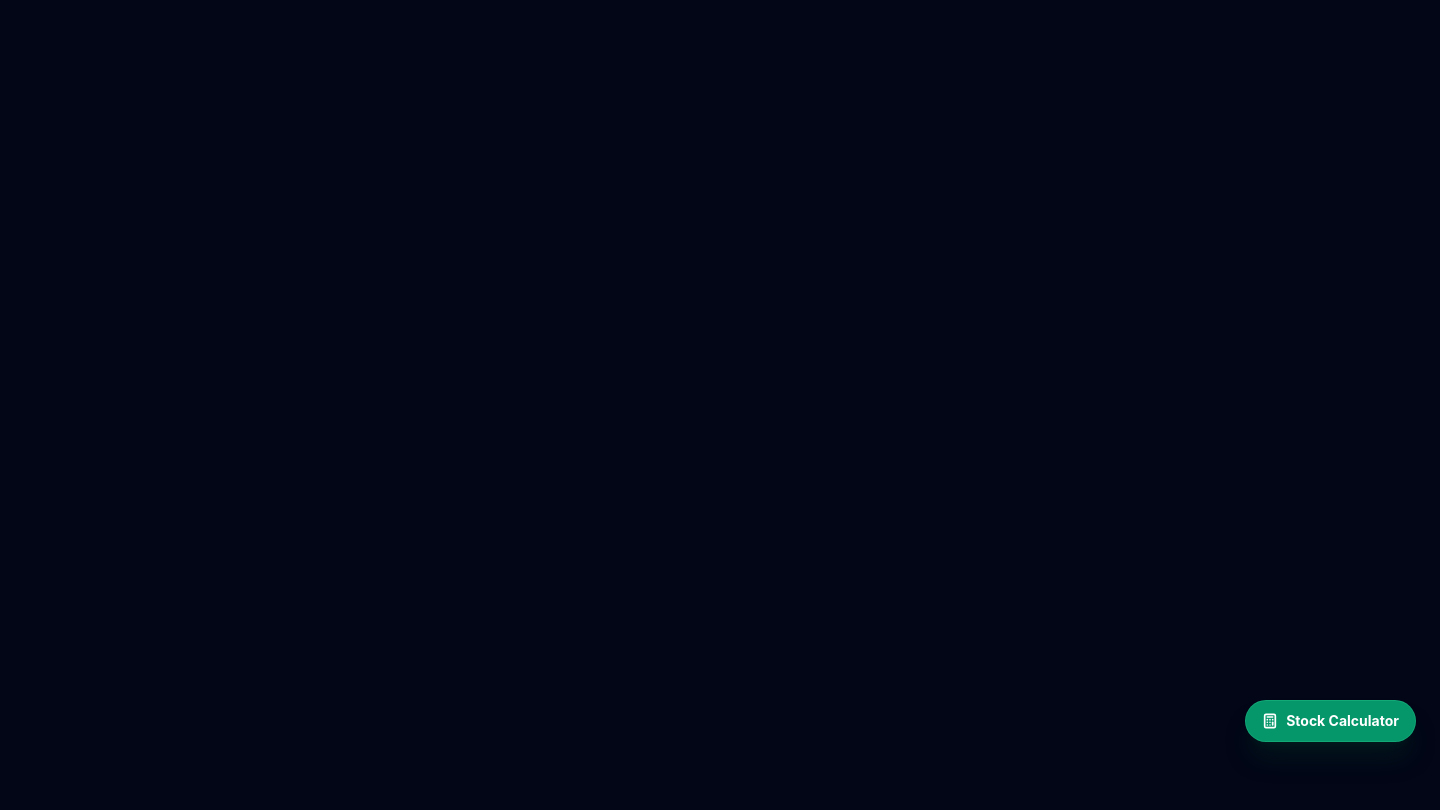
Test: FloatingPageCalculator › opens modal dialog on desktop when clicked with clean text header
Click the button with aria-label "Open Stocks & Dividend Calculator" at (1331, 721), box top-left (1245, 700), bottom-right (1416, 742)
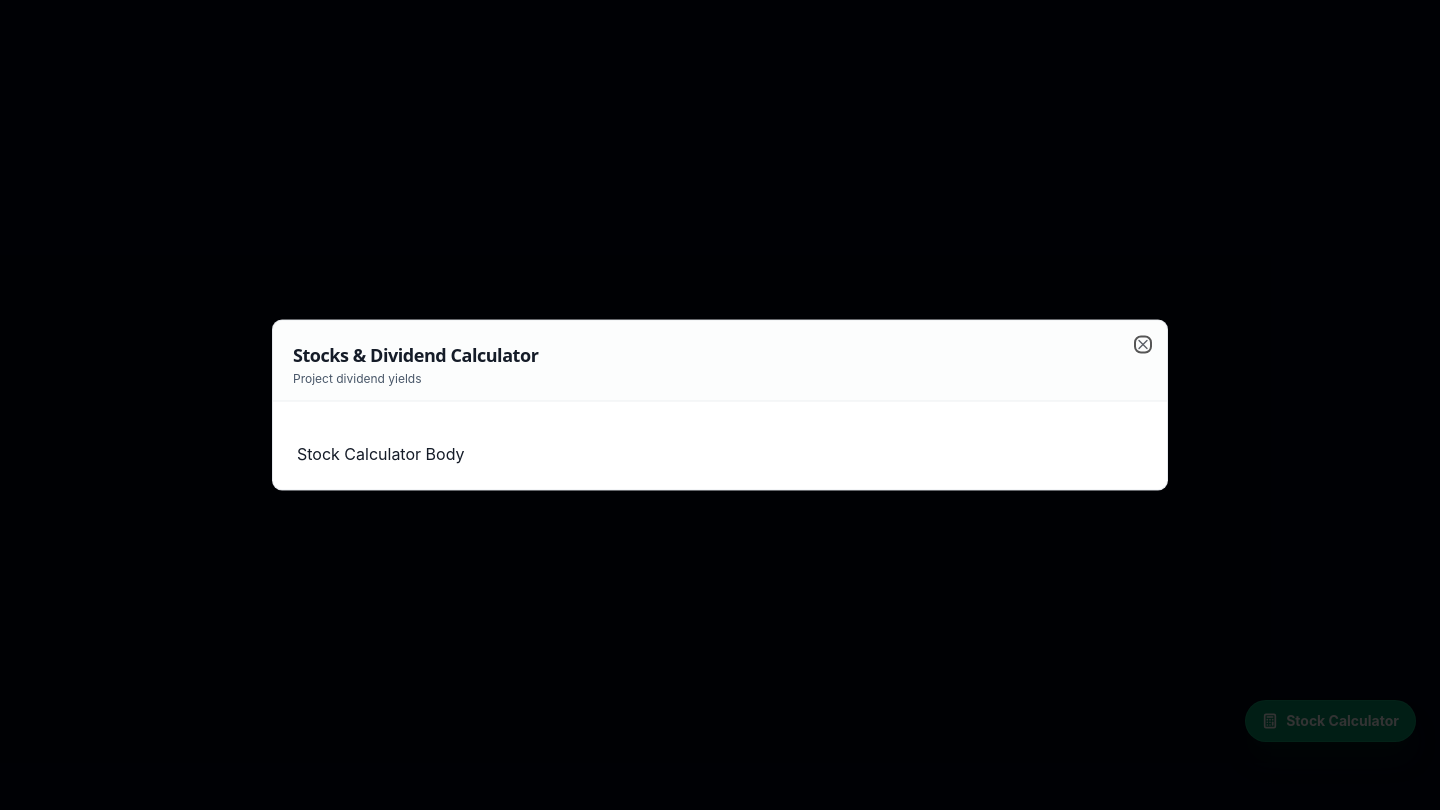
Result: the text "Stock Calculator Body" is shown at top-left (297, 444), bottom-right (464, 464)
Result: the heading "Stocks & Dividend Calculator" is shown at top-left (293, 342), bottom-right (538, 366)
